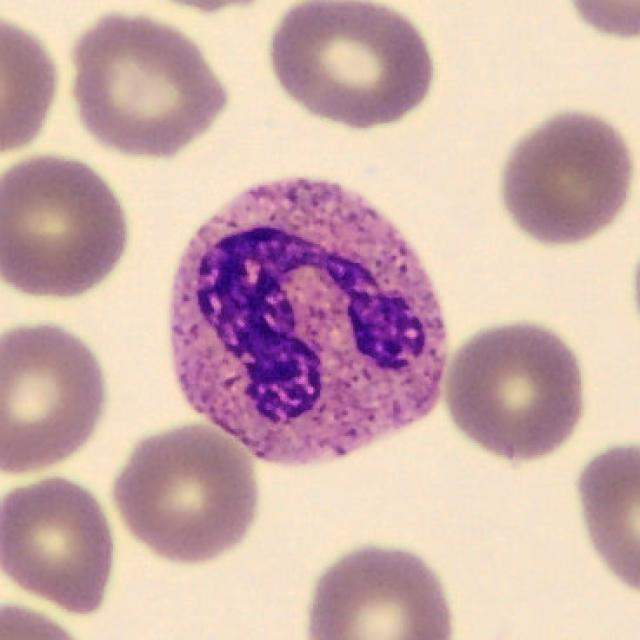Neutrofilo segmentado: (169, 178, 449, 469)
